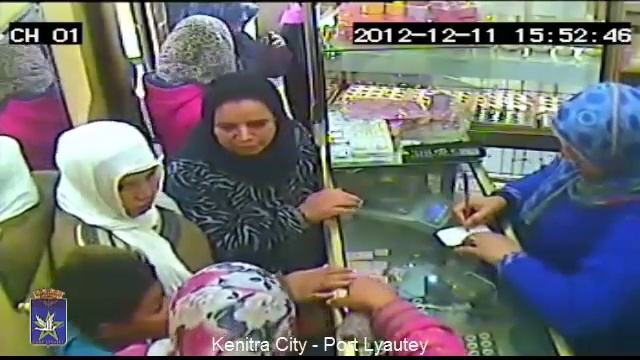face: (216, 101, 275, 155), (108, 165, 159, 212)
